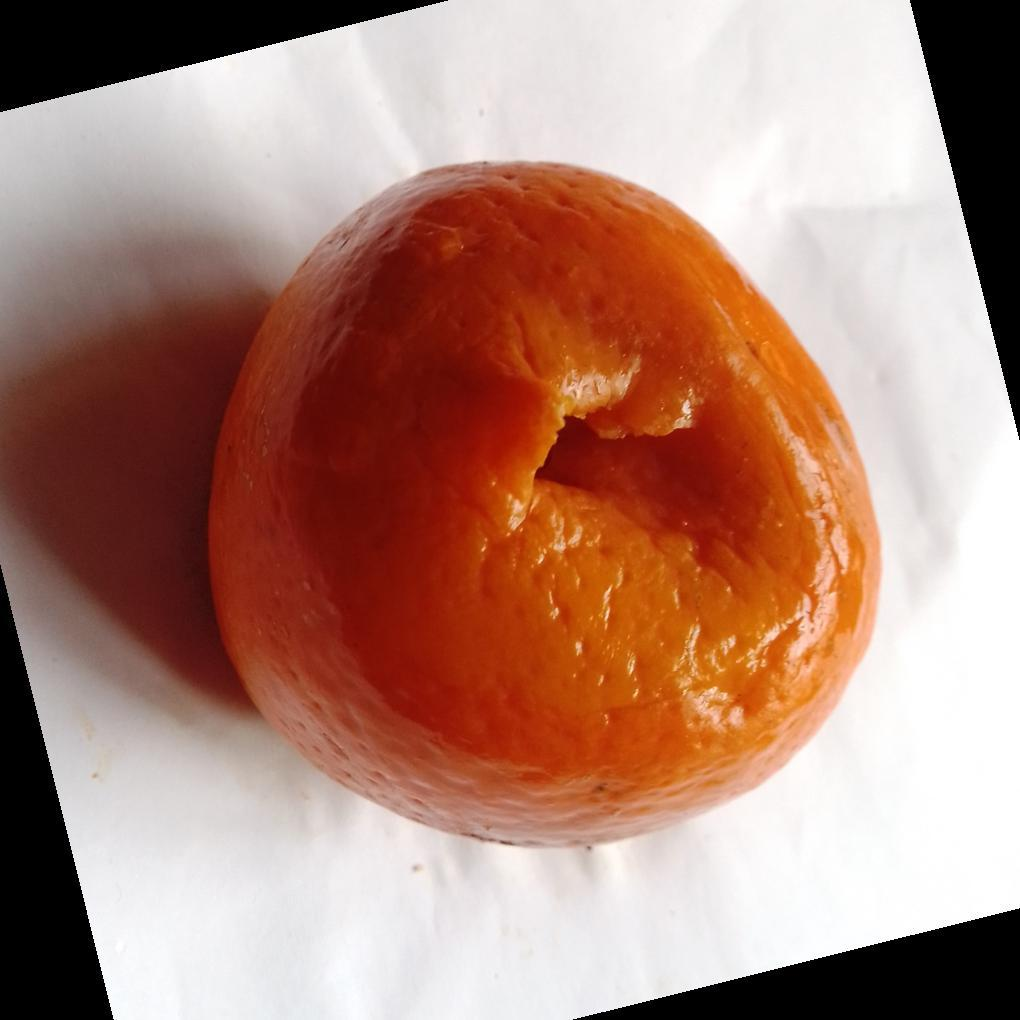FreshOrange: (205, 161, 884, 852)
